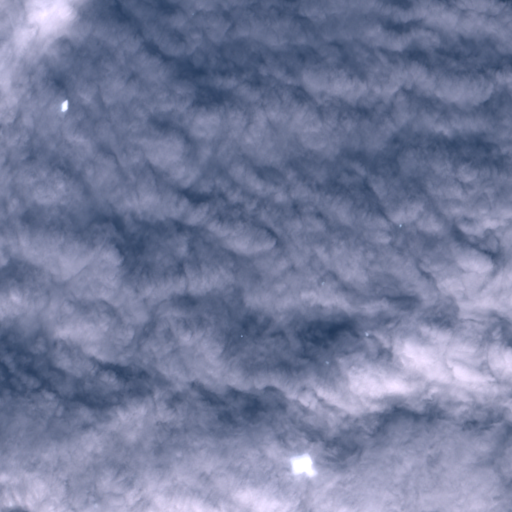Iceberg: (291, 454, 315, 476), (61, 100, 67, 111), (365, 332, 368, 335), (399, 224, 401, 227), (326, 361, 327, 363), (241, 335, 242, 336)
